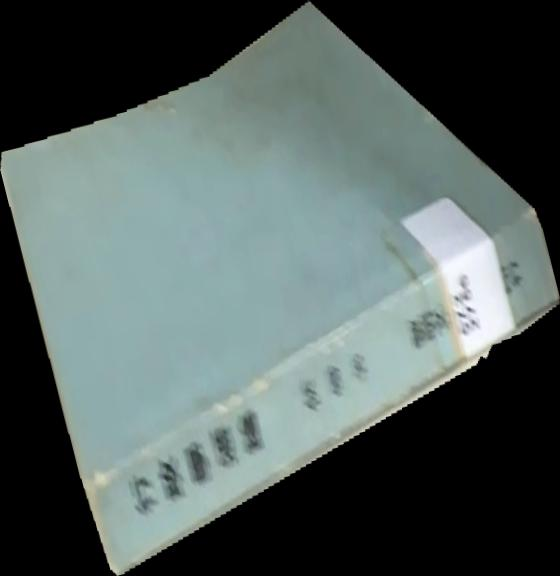flat: (1, 1, 560, 576)
